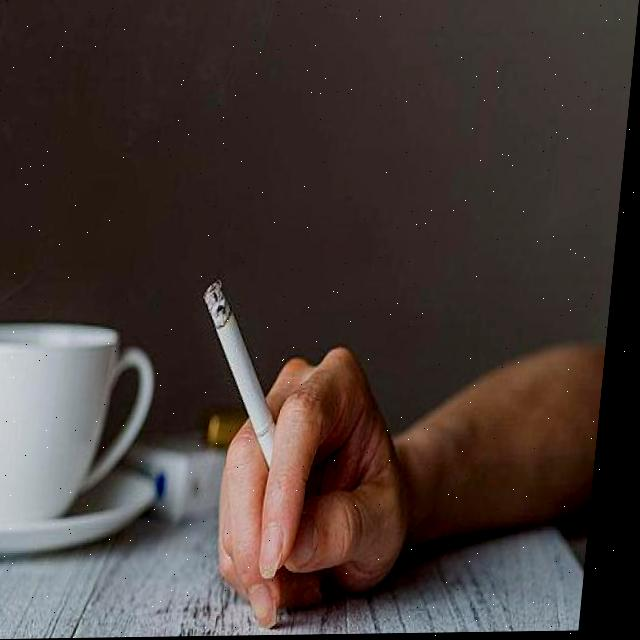cigarette: (194, 283, 294, 467)
